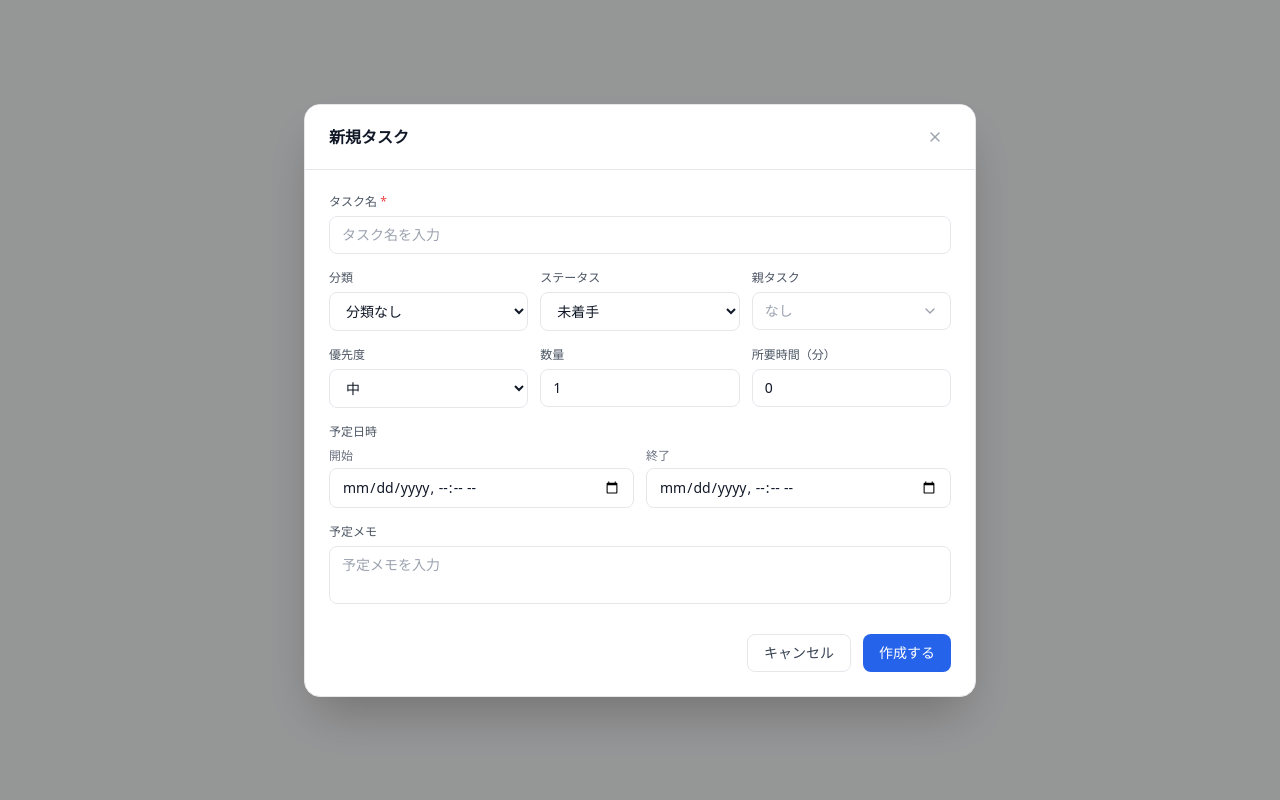
TaskForm DOM input and UI state › TC-CB-109 TD039 TV039 TA007 R003/R007 進行中で開始実績日時がない場合は保存しない
In the field with placeholder "タスク名を入力": {"x": 640, "y": 234} [329,216,951,254], type "有効なタスク"
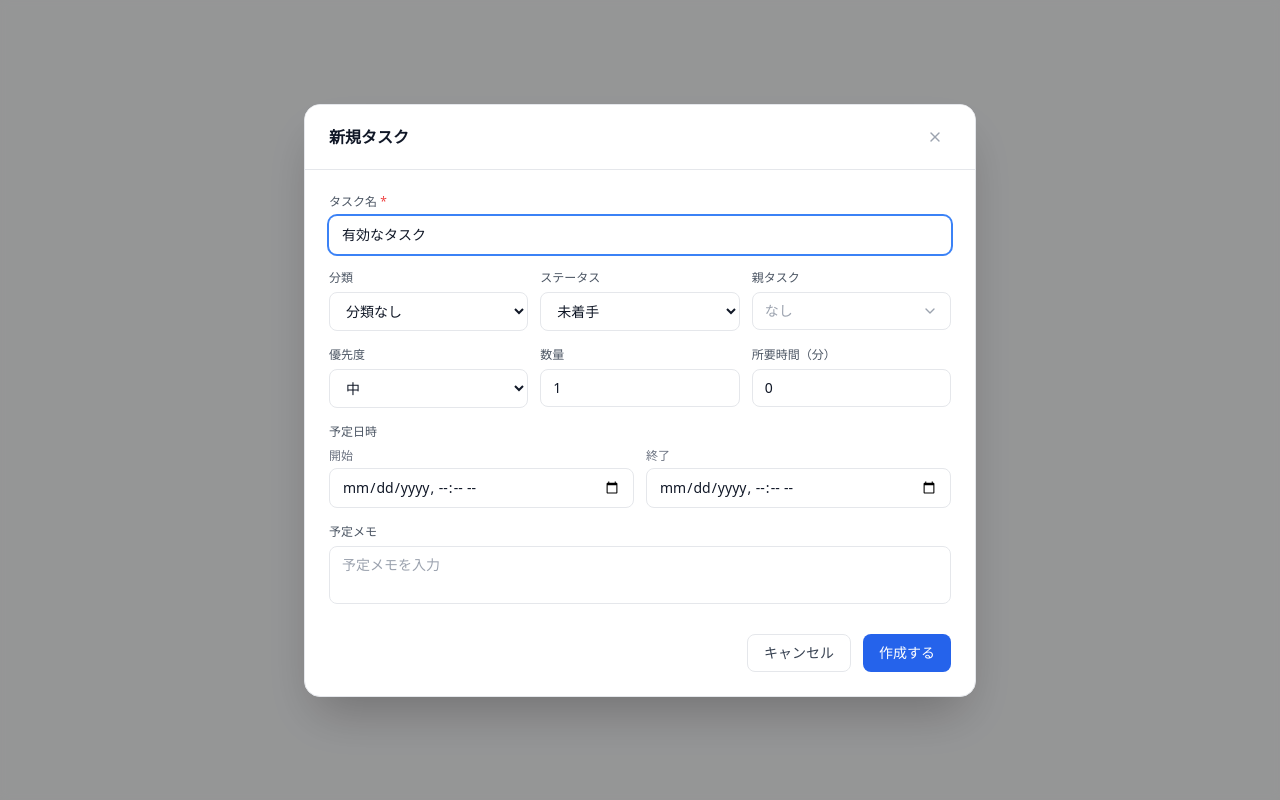
Select "進行中" in the dropdown showing "未着手" below "ステータス": {"x": 640, "y": 311} [540,292,740,330]
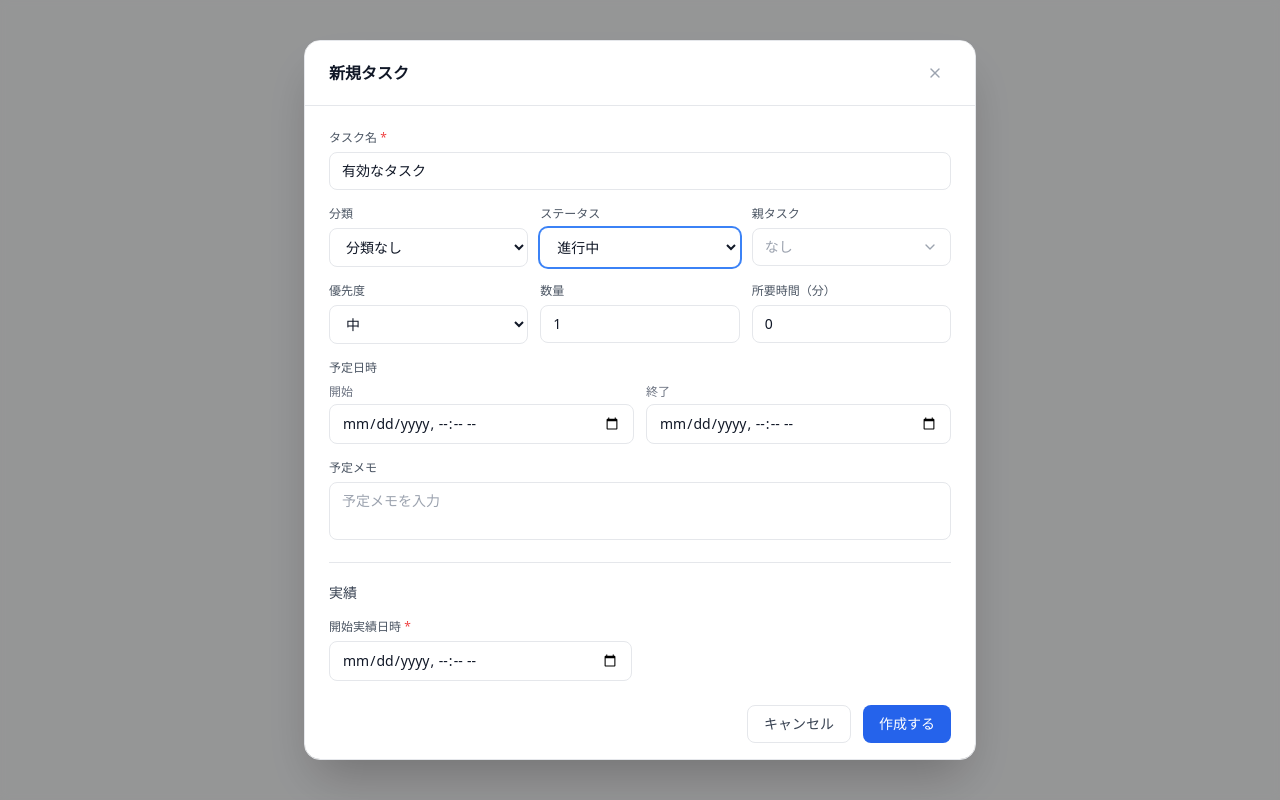
Click the button "作成する": {"x": 907, "y": 724} [863,705,951,743]
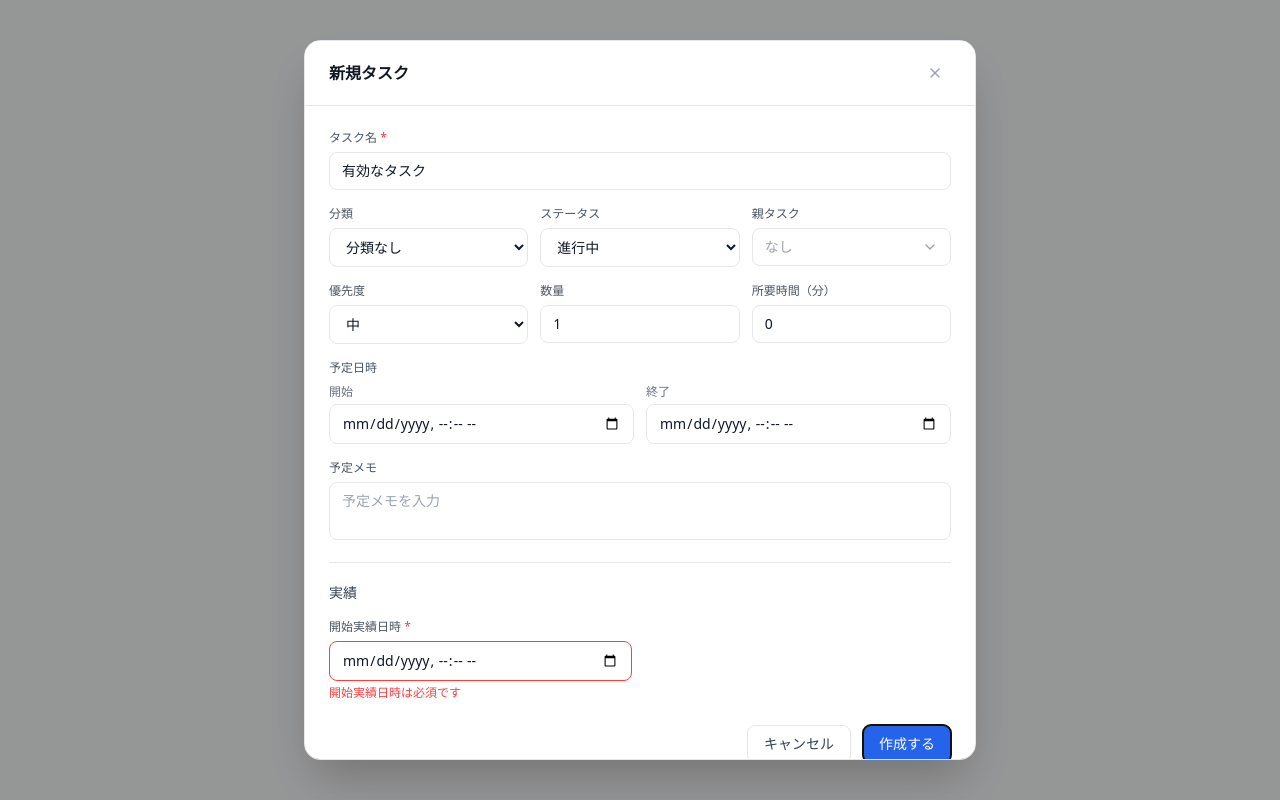
Expected: the text "開始実績日時は必須です" is shown, [329,684,461,701]
